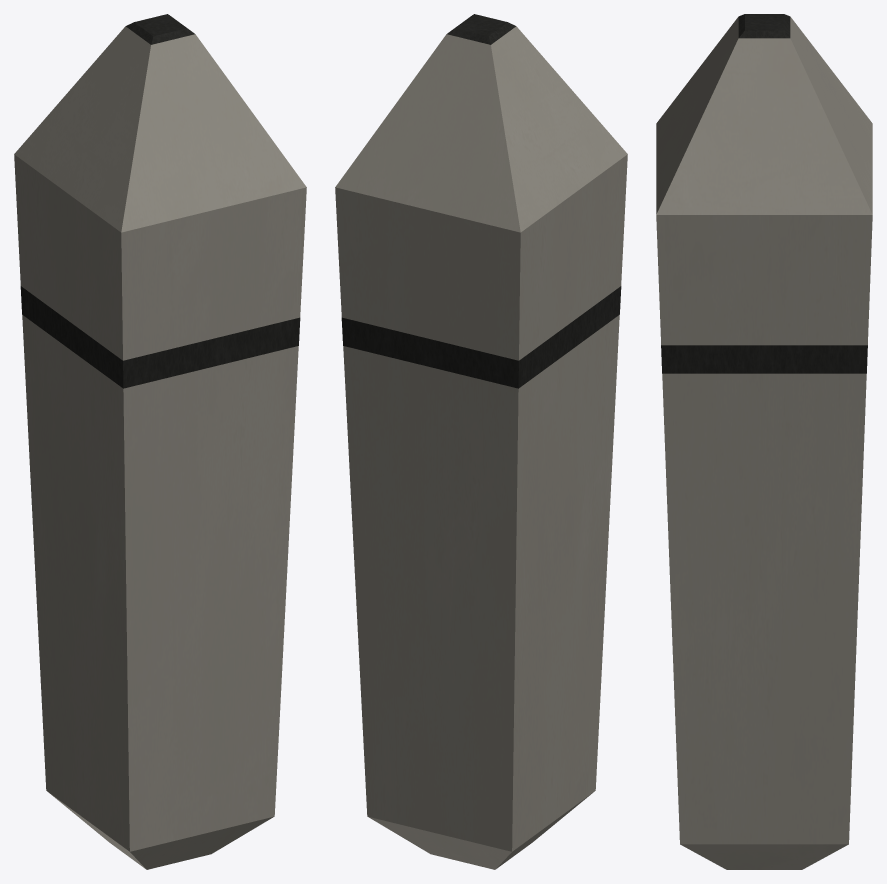
Rendered from Brush.fbx.
3 renders of one model, left to right at view 1: azimuth 30°, elevation 25°; view 2: azimuth 150°, elevation 25°; view 3: azimuth 270°, elevation 25°, orthographic.
Parts seen in each view (by area): view 1: Cube; view 2: Cube; view 3: Cube.
Part boxes in pixels (left/top/right/bottom): Cube: left=14, top=14, right=306, bottom=869; Cube: left=335, top=14, right=627, bottom=869; Cube: left=656, top=14, right=872, bottom=869.
Bounding box in the file's own units: 200 × 848 × 200.
